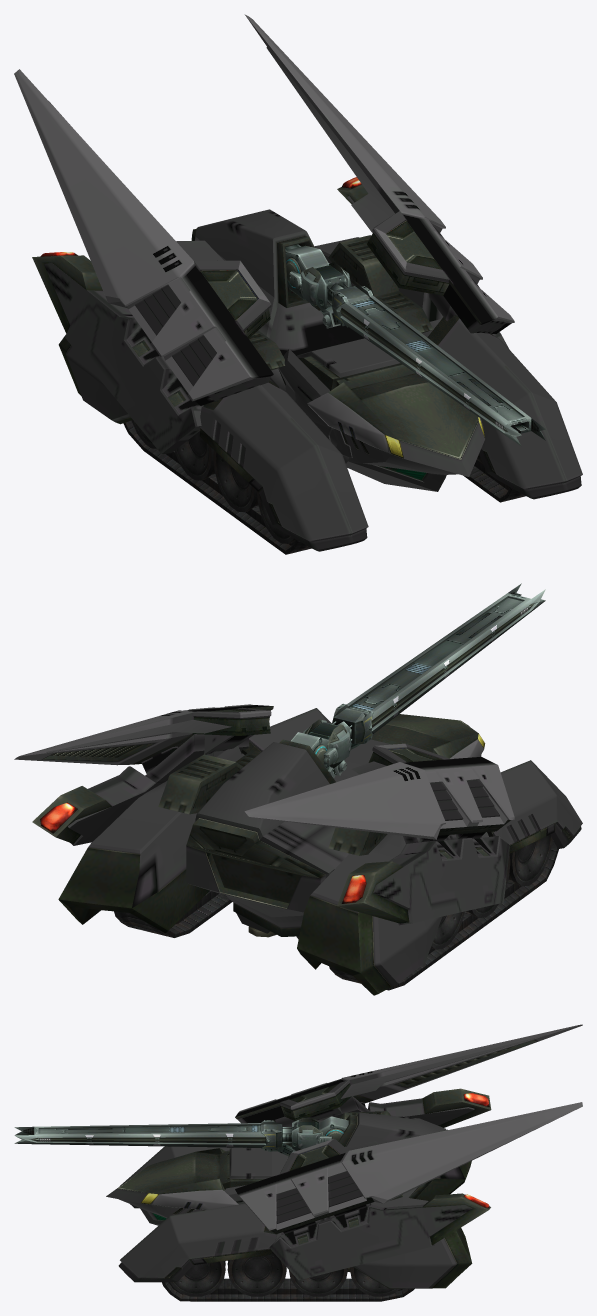
File: Landmaster.obj
3 views of the same model, one above another, from view 1: azimuth 30°, elevation 25°; view 2: azimuth 150°, elevation 25°; view 3: azimuth 270°, elevation 25° (orthographic). The views are drawn at different scales.
Visible parts, largest first — view 1: polygon5, polygon0, polygon4, polygon6, polygon3, polygon2, polygon1; view 2: polygon5, polygon0, polygon4, polygon6, polygon3, polygon2, polygon1; view 3: polygon5, polygon0, polygon4, polygon3, polygon1, polygon6.
Boxes of the visible parts, x1=… form: polygon5: x1=14, y1=14, x2=582, y2=551; polygon0: x1=32, y1=177, x2=495, y2=526; polygon4: x1=285, y1=244, x2=545, y2=446; polygon6: x1=61, y1=165, x2=194, y2=306; polygon3: x1=131, y1=420, x2=482, y2=543; polygon2: x1=123, y1=420, x2=311, y2=554; polygon1: x1=463, y1=459, x2=525, y2=502; polygon5: x1=14, y1=704, x2=582, y2=986; polygon0: x1=32, y1=706, x2=571, y2=995; polygon4: x1=291, y1=583, x2=545, y2=778; polygon6: x1=322, y1=762, x2=445, y2=839; polygon3: x1=431, y1=835, x2=552, y2=949; polygon2: x1=329, y1=840, x2=558, y2=990; polygon1: x1=114, y1=890, x2=232, y2=937; polygon5: x1=106, y1=1024, x2=582, y2=1288; polygon0: x1=117, y1=1040, x2=536, y2=1288; polygon4: x1=14, y1=1116, x2=348, y2=1157; polygon3: x1=170, y1=1251, x2=399, y2=1296; polygon1: x1=162, y1=1278, x2=414, y2=1301; polygon6: x1=341, y1=1050, x2=465, y2=1080.
Size of the model in its own units: 67.39 by 50.65 by 135.
